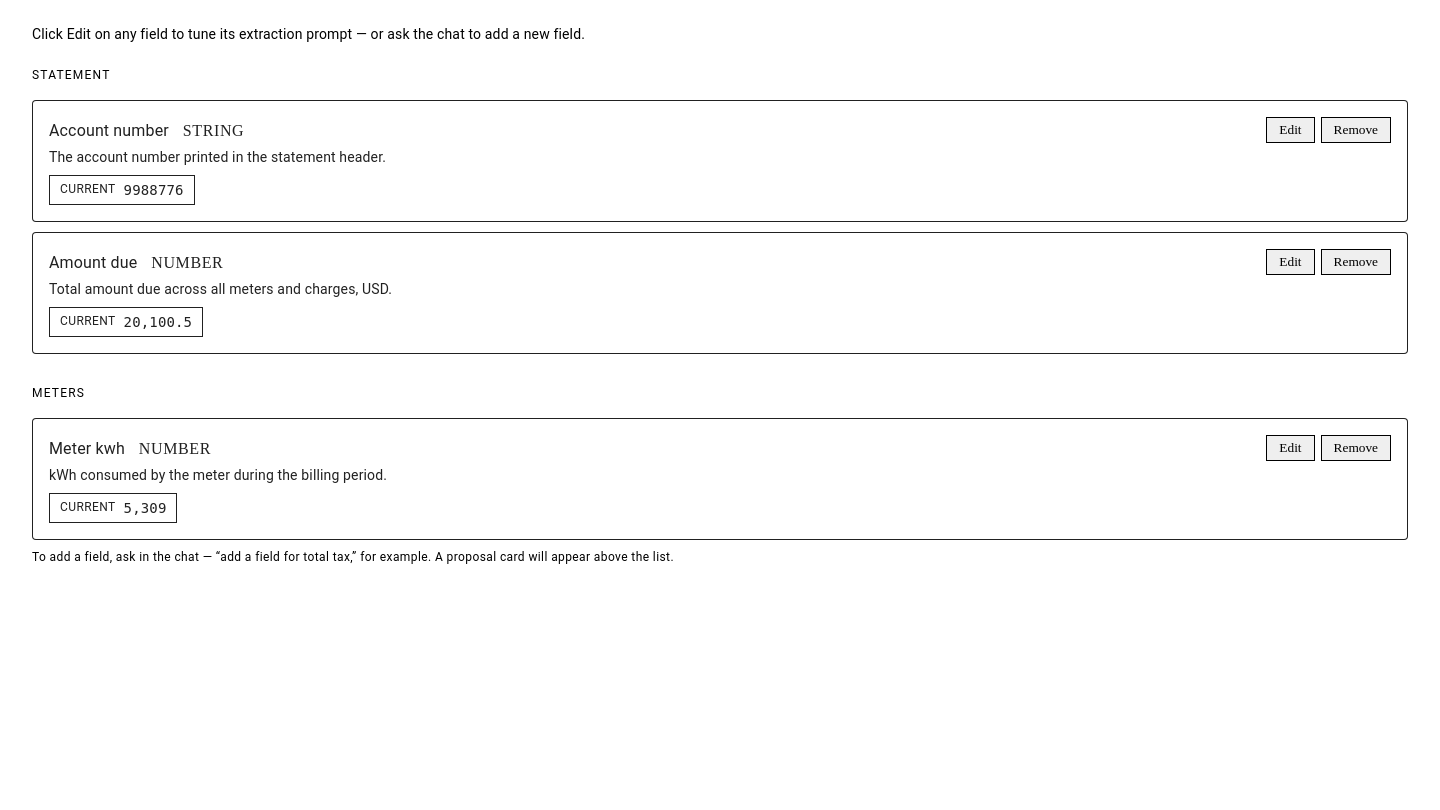
Scenario: SchemaView (UI-01 Phase 1) › inline editor exposes name, type, format, required, prompt, instructions, identifier chips, preview + Save/Cancel/Rerun (expand-inline-editor-fields)
The width and height of the screenshot is (1440, 810).
Expected: the element with test id "schema-field-account_number" is shown, [32,100,1408,222]
Expected: the element with test id "schema-field-value-account_number" shows "9988776", [124,182,184,198]
Click the button with test id "schema-edit-field-account_number" at (1290, 130), box [1266,117,1315,143]
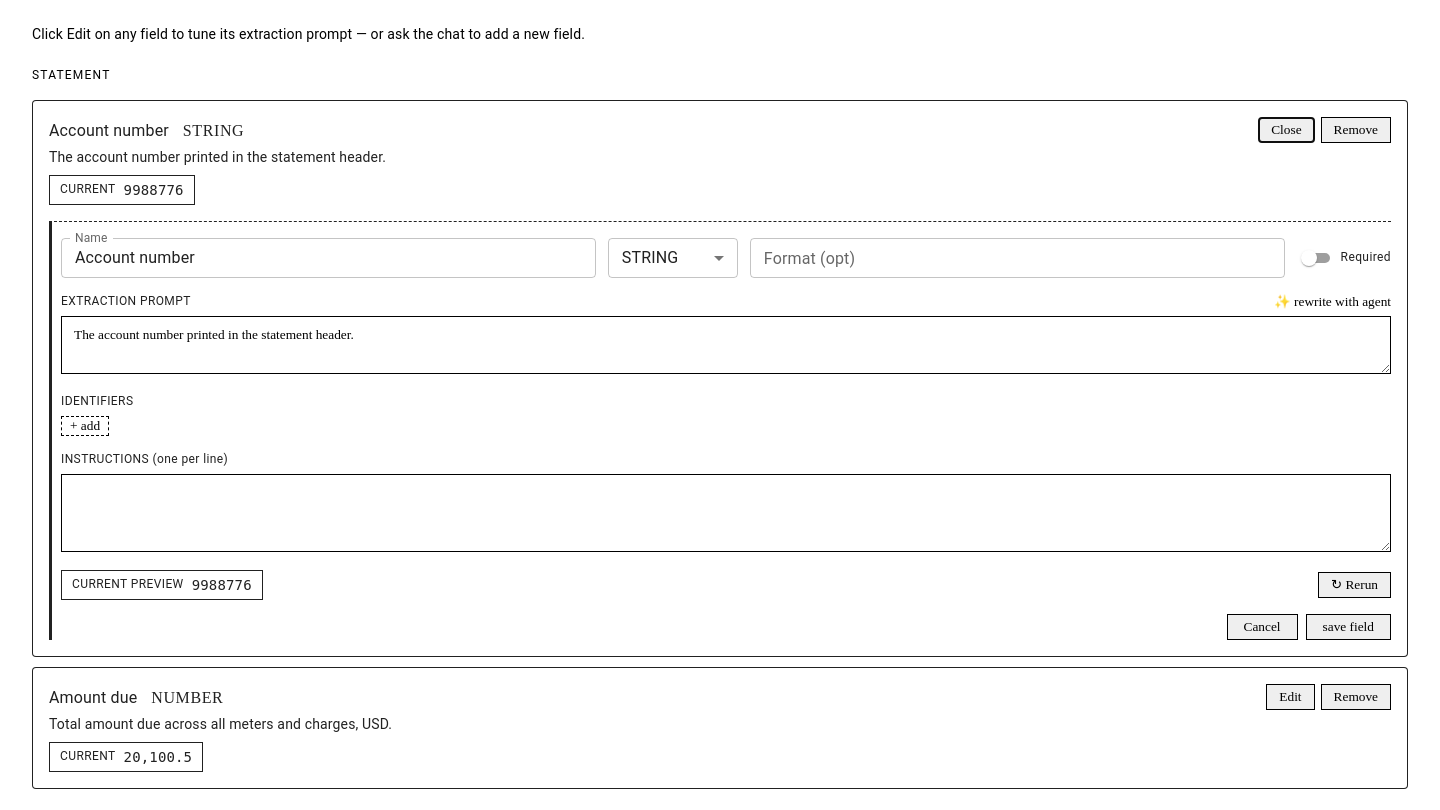
Expected: the element with test id "schema-field-editor-name-account_number" is shown, [61,238,596,278]
Expected: the element with test id "schema-field-editor-type-account_number" is shown, [608,238,738,278]
Expected: the element with test id "schema-field-editor-format-account_number" is shown, [750,238,1285,278]
